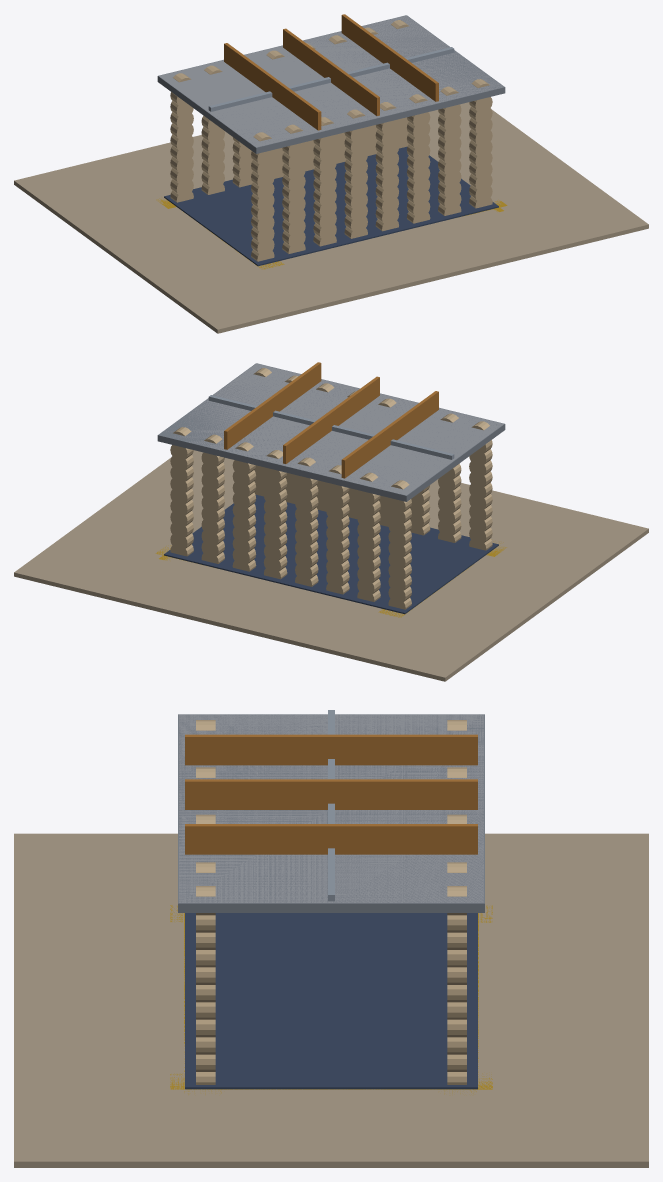
The model's file is stage_09_roof_structure.glb.
The picture shows the model from 3 angles, top to bottom: view 1: azimuth 30°, elevation 25°; view 2: azimuth 150°, elevation 25°; view 3: azimuth 270°, elevation 25°; orthographic projection. The views are drawn at different scales.
Parts seen in each view (by area): view 1: world; view 2: world; view 3: world.
Boxes of the visible parts, left/top/right/bottom form: world: left=14, top=14, right=648, bottom=333; world: left=14, top=362, right=648, bottom=681; world: left=14, top=710, right=648, bottom=1167.
Size of the model in its own units: 11 by 4.2 by 9.
